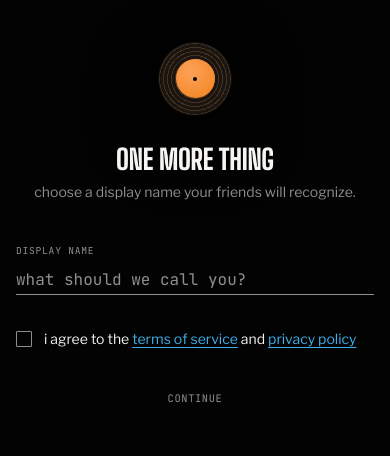
it: OnboardingRoute › submit failure: shows the calm error and stays on the screen
Type "Bob" into the field labelled "display name" at {"x": 195, "y": 280}, box [16, 266, 374, 294]
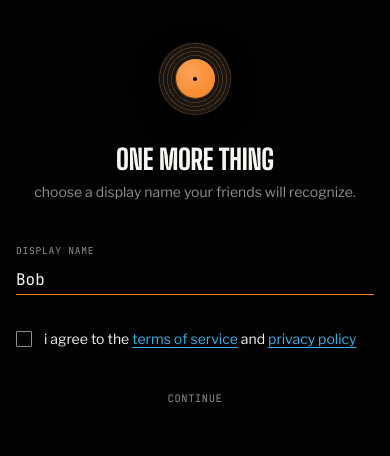
Click the checkbox at {"x": 24, "y": 338}, box [16, 330, 32, 346]
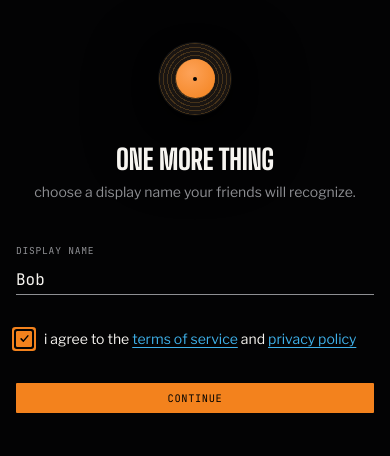
Click the button "continue" at {"x": 195, "y": 398}, box [16, 383, 374, 413]
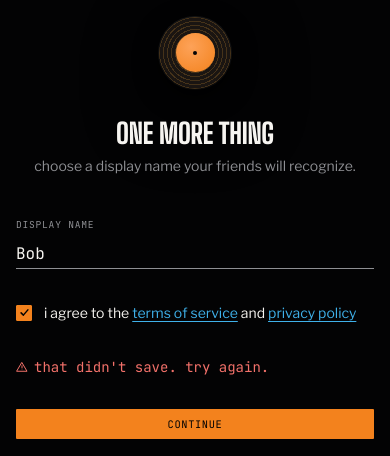
Expected: the heading "one more thing" is shown, [116, 116, 274, 150]
Result: the message reads "that didn't save. try again." at [34, 358, 269, 376]
